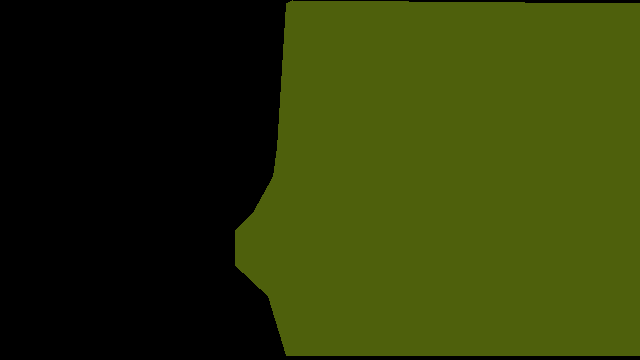Train: (235, 0, 640, 355)
